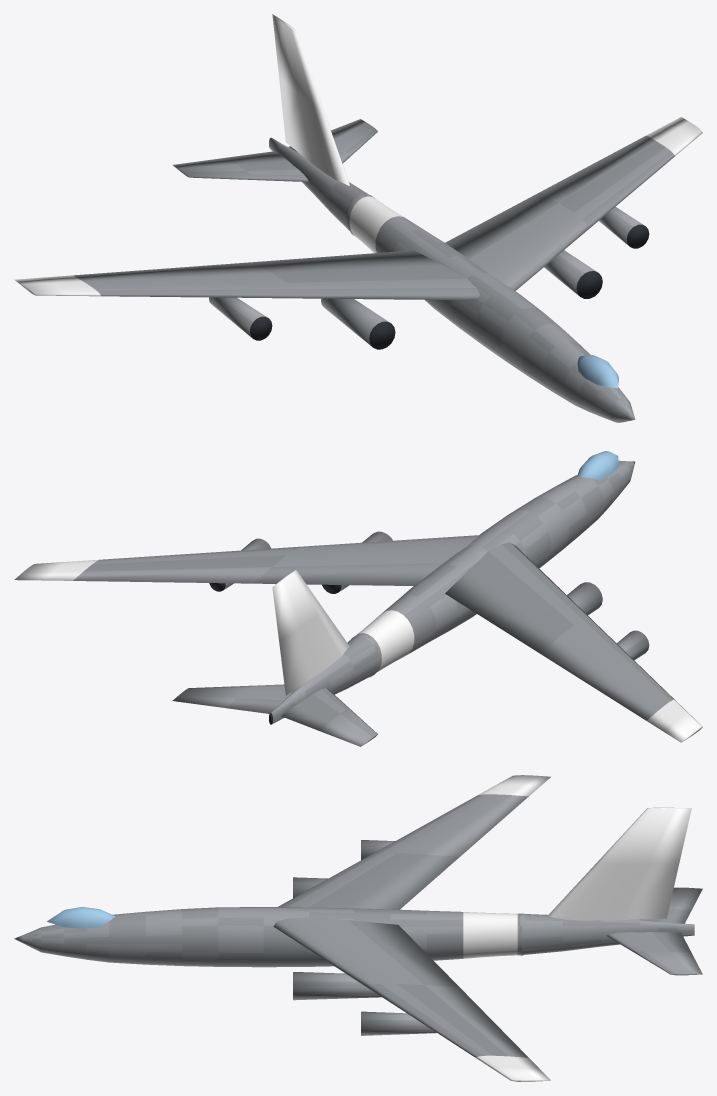
The model's file is bomber_jet.glb.
3 renders of one model, top to bottom at view 1: azimuth 30°, elevation 25°; view 2: azimuth 150°, elevation 25°; view 3: azimuth 270°, elevation 25°, orthographic. The views are drawn at different scales.
Visible parts, largest first — view 1: body; view 2: body; view 3: body.
Part boxes in pixels (x1,y1,x2,y2): body: (14,14,702,422); body: (14,451,702,746); body: (14,775,702,1081).
Size of the model in its own units: 35.4 by 8.49 by 33.91.
